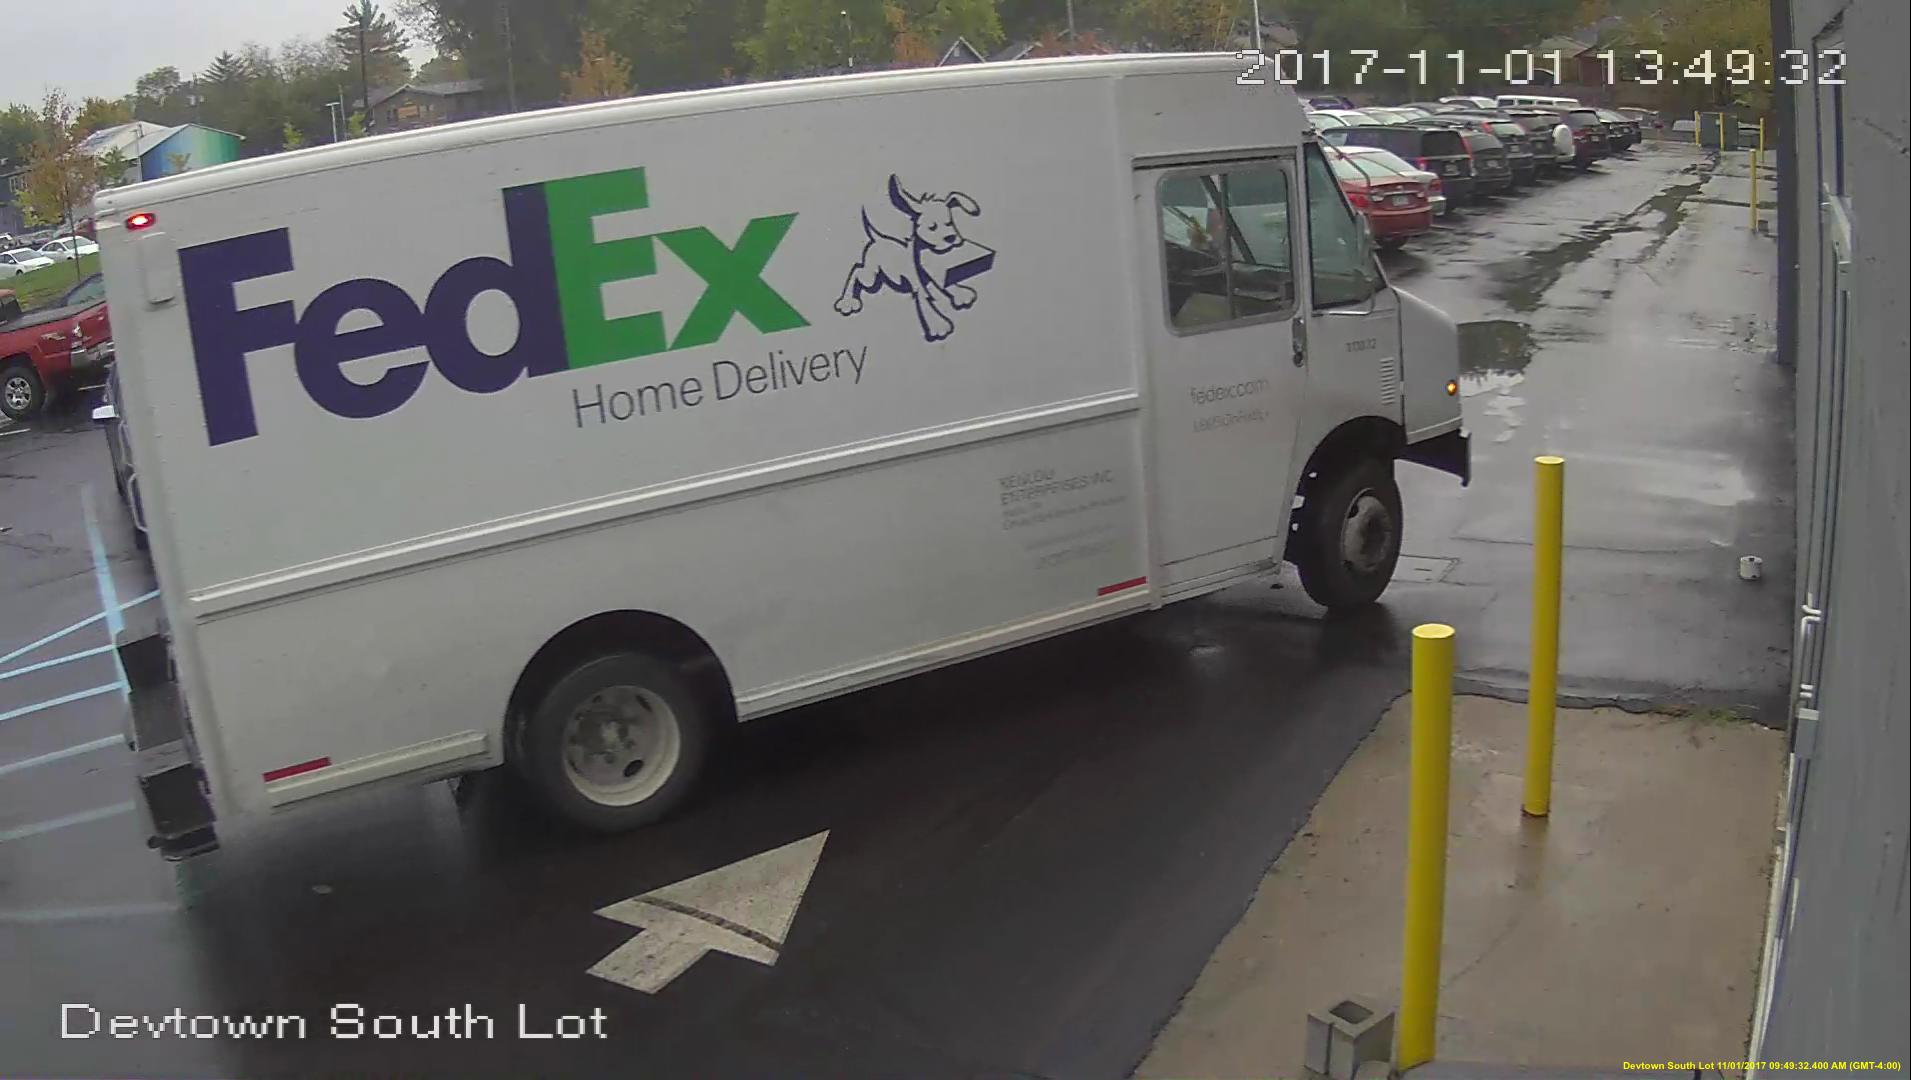fedex_truck: (102, 52, 1456, 860)
